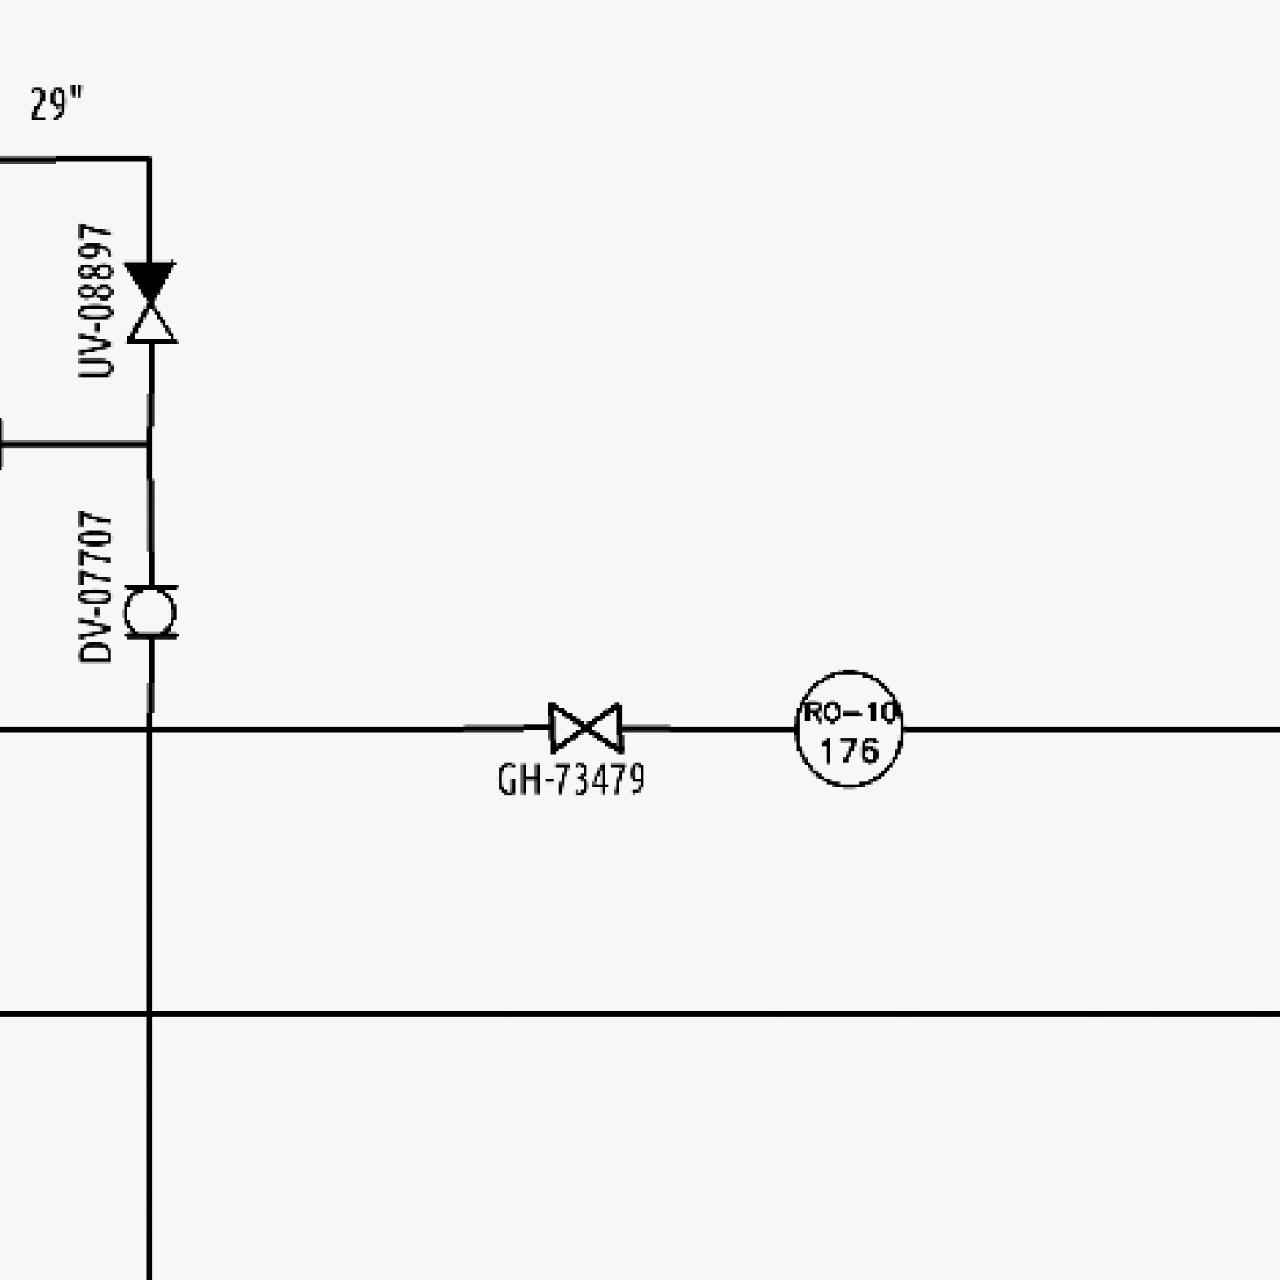Control-Panel: (785, 663, 912, 791)
Half closed valve: (561, 256, 626, 348)
